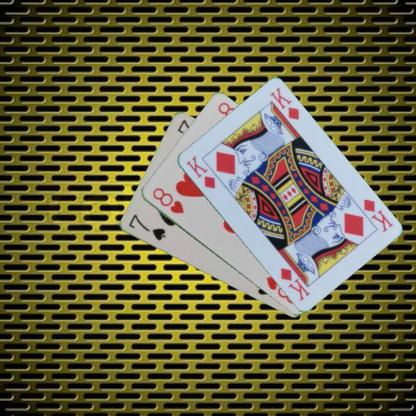7s: (126, 211, 166, 242)
8h: (150, 185, 185, 215)
Kd: (360, 196, 395, 233), (183, 153, 217, 190)
